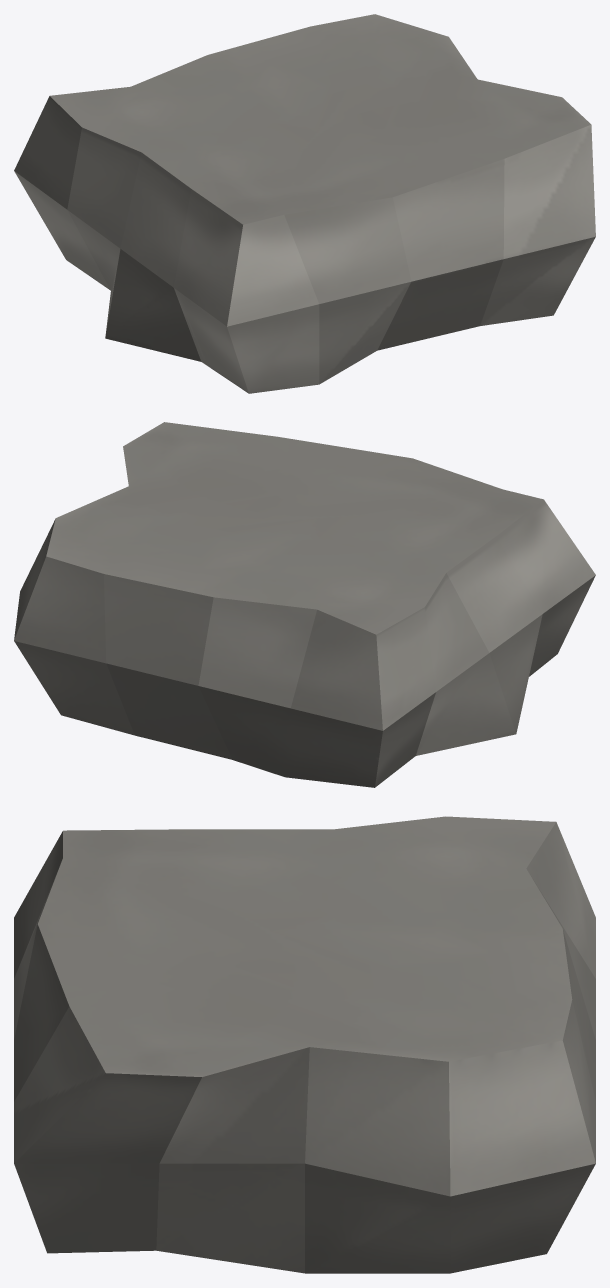
The model's file is floating_path_4.fbx.
The picture shows the model from 3 angles, top to bottom: view 1: azimuth 30°, elevation 25°; view 2: azimuth 150°, elevation 25°; view 3: azimuth 270°, elevation 25°; orthographic projection. The views are drawn at different scales.
Visible parts, largest first — view 1: floating_path_4; view 2: floating_path_4; view 3: floating_path_4.
Boxes of the visible parts, bbox=[...] form: floating_path_4: bbox=[14, 14, 595, 393]; floating_path_4: bbox=[14, 422, 595, 787]; floating_path_4: bbox=[14, 816, 595, 1273].
Size of the model in its own units: 132 by 46.42 by 111.
